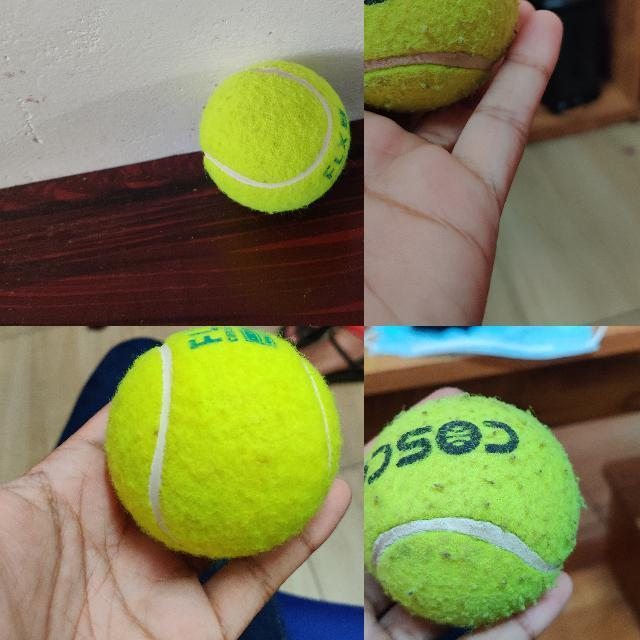tennis-ball: (107, 326, 340, 556), (364, 396, 580, 626), (198, 60, 350, 214), (364, 0, 521, 112)
